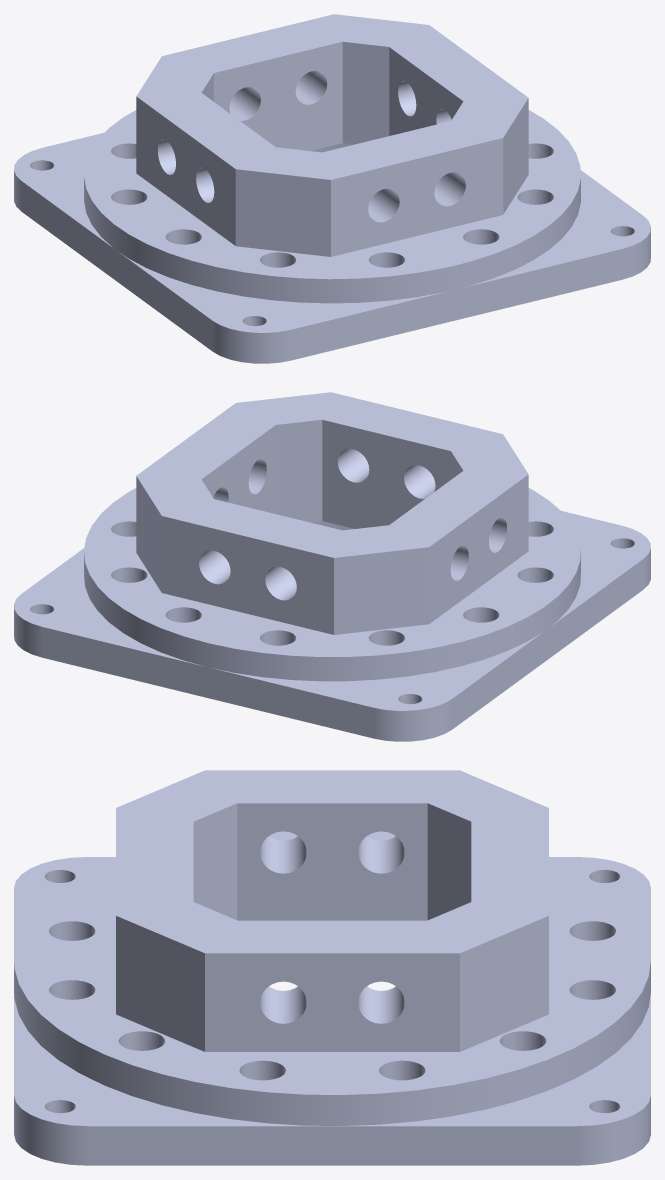
File: End cap.dae
3 renders of one model, top to bottom at view 1: azimuth 30°, elevation 25°; view 2: azimuth 150°, elevation 25°; view 3: azimuth 270°, elevation 25°, orthographic. The views are drawn at different scales.
Parts seen in each view (by area): view 1: Actor0; view 2: Actor0; view 3: Actor0.
Boxes of the visible parts, left/top/right/bottom form: Actor0: left=14, top=14, right=650, bottom=363; Actor0: left=14, top=392, right=650, bottom=741; Actor0: left=14, top=770, right=650, bottom=1165.
Size of the model in its own units: 0.13 by 0.0381 by 0.13.
